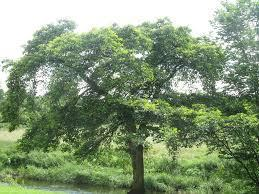tree: (7, 19, 227, 193)
